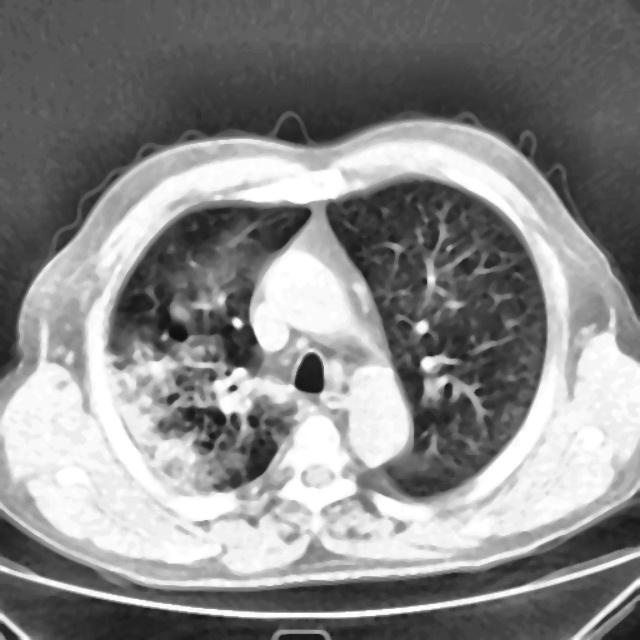covid: (0, 111, 639, 592)
